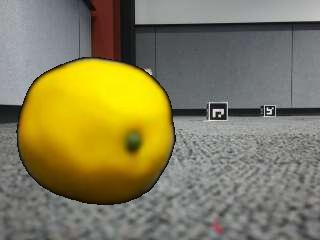lemon: (19, 58, 173, 205)
